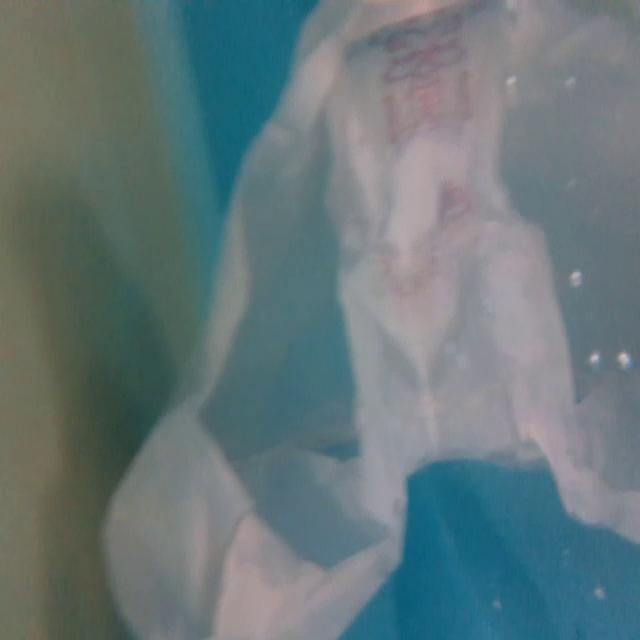plastic bags: (97, 2, 640, 638)
